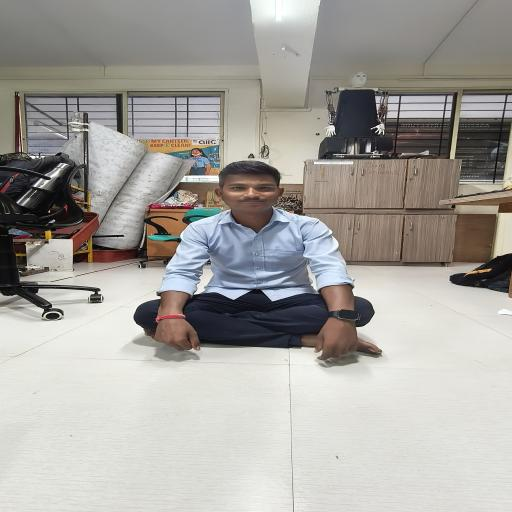survivor: (133, 161, 383, 360)
